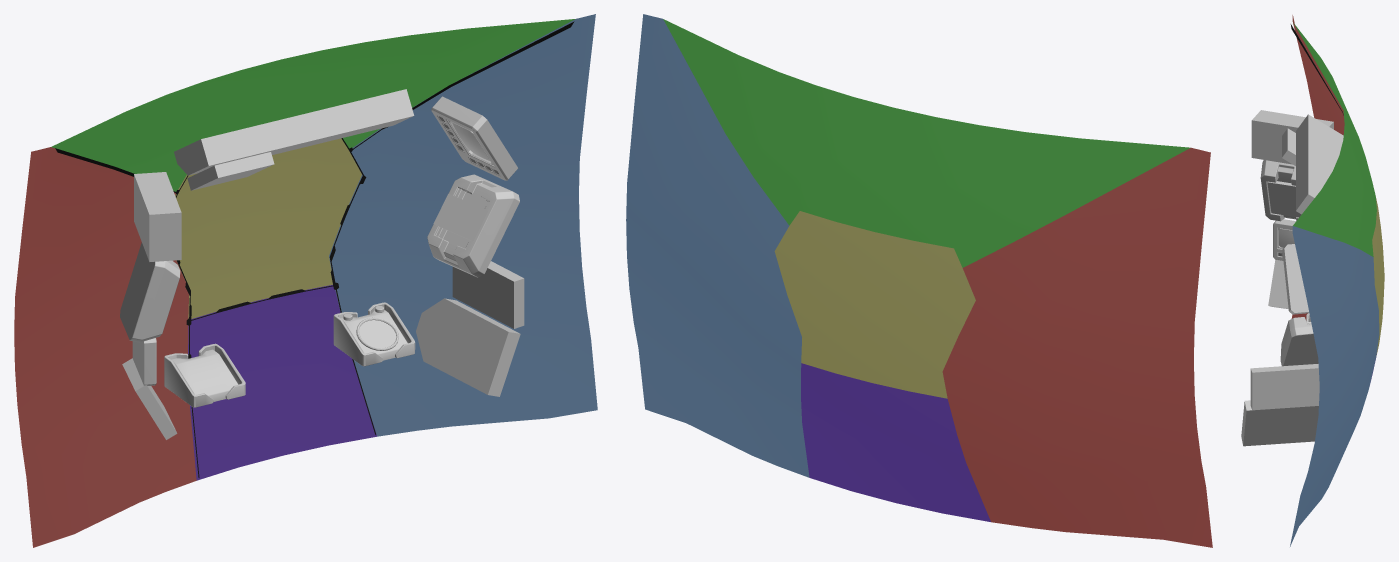
The model's file is Cockpit.fbx.
The picture shows the model from 3 angles, left to right: view 1: azimuth 30°, elevation 25°; view 2: azimuth 150°, elevation 25°; view 3: azimuth 270°, elevation 25°; orthographic projection. The views are drawn at different scales.
Visible parts, largest first — view 1: Screen, TopPanel, SimplePanel_R_02, Backing (2), Backing, ControlDial_R, ControlDial_L, SimplePanel_L_01, Dials_w_Screen, SimplePanel_R_01, BackingPanel02, Screen01 (2) (+2 smaller); view 2: Screen; view 3: Screen, TopPanel, SimplePanel_R_01, SimplePanel_R_02, SimplePanel_L_01, Backing (2), Dials_w_Screen, Backing, BackingPanel01, Screen01, Dials_w_Screen (2), Screen01 (2).
Boxes of the visible parts, left/top/right/bottom form: Screen: left=14, top=14, right=597, bottom=547; TopPanel: left=174, top=89, right=414, bottom=175; SimplePanel_R_02: left=416, top=298, right=520, bottom=396; Backing (2): left=427, top=174, right=519, bottom=277; Backing: left=120, top=242, right=180, bottom=342; ControlDial_R: left=333, top=302, right=415, bottom=366; ControlDial_L: left=164, top=343, right=245, bottom=407; SimplePanel_L_01: left=134, top=172, right=181, bottom=261; Dials_w_Screen: left=431, top=96, right=518, bottom=180; SimplePanel_R_01: left=452, top=261, right=524, bottom=328; BackingPanel02: left=433, top=193, right=488, bottom=241; Screen01 (2): left=187, top=152, right=274, bottom=190; Screen: left=626, top=14, right=1212, bottom=547; Screen: left=1290, top=15, right=1384, bottom=546; TopPanel: left=1296, top=114, right=1343, bottom=214; SimplePanel_R_01: left=1250, top=364, right=1319, bottom=410; SimplePanel_R_02: left=1241, top=400, right=1318, bottom=446; SimplePanel_L_01: left=1251, top=110, right=1333, bottom=164; Backing (2): left=1280, top=317, right=1318, bottom=366; Dials_w_Screen: left=1282, top=244, right=1309, bottom=314; Backing: left=1260, top=160, right=1298, bottom=221; BackingPanel01: left=1267, top=181, right=1301, bottom=217; Screen01: left=1268, top=260, right=1288, bottom=308; Dials_w_Screen (2): left=1273, top=219, right=1296, bottom=260; Screen01 (2): left=1282, top=128, right=1295, bottom=165.
Bounding box in the file's own units: 100 × 66.88 × 27.61.
